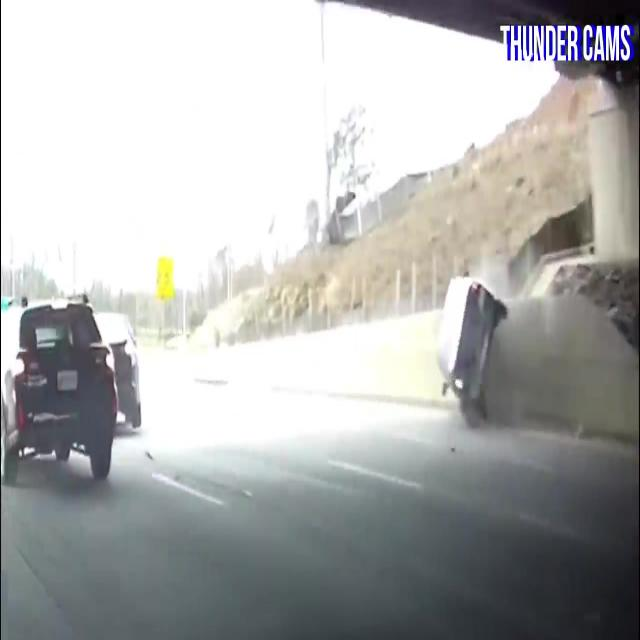accident: (414, 232, 516, 443)
